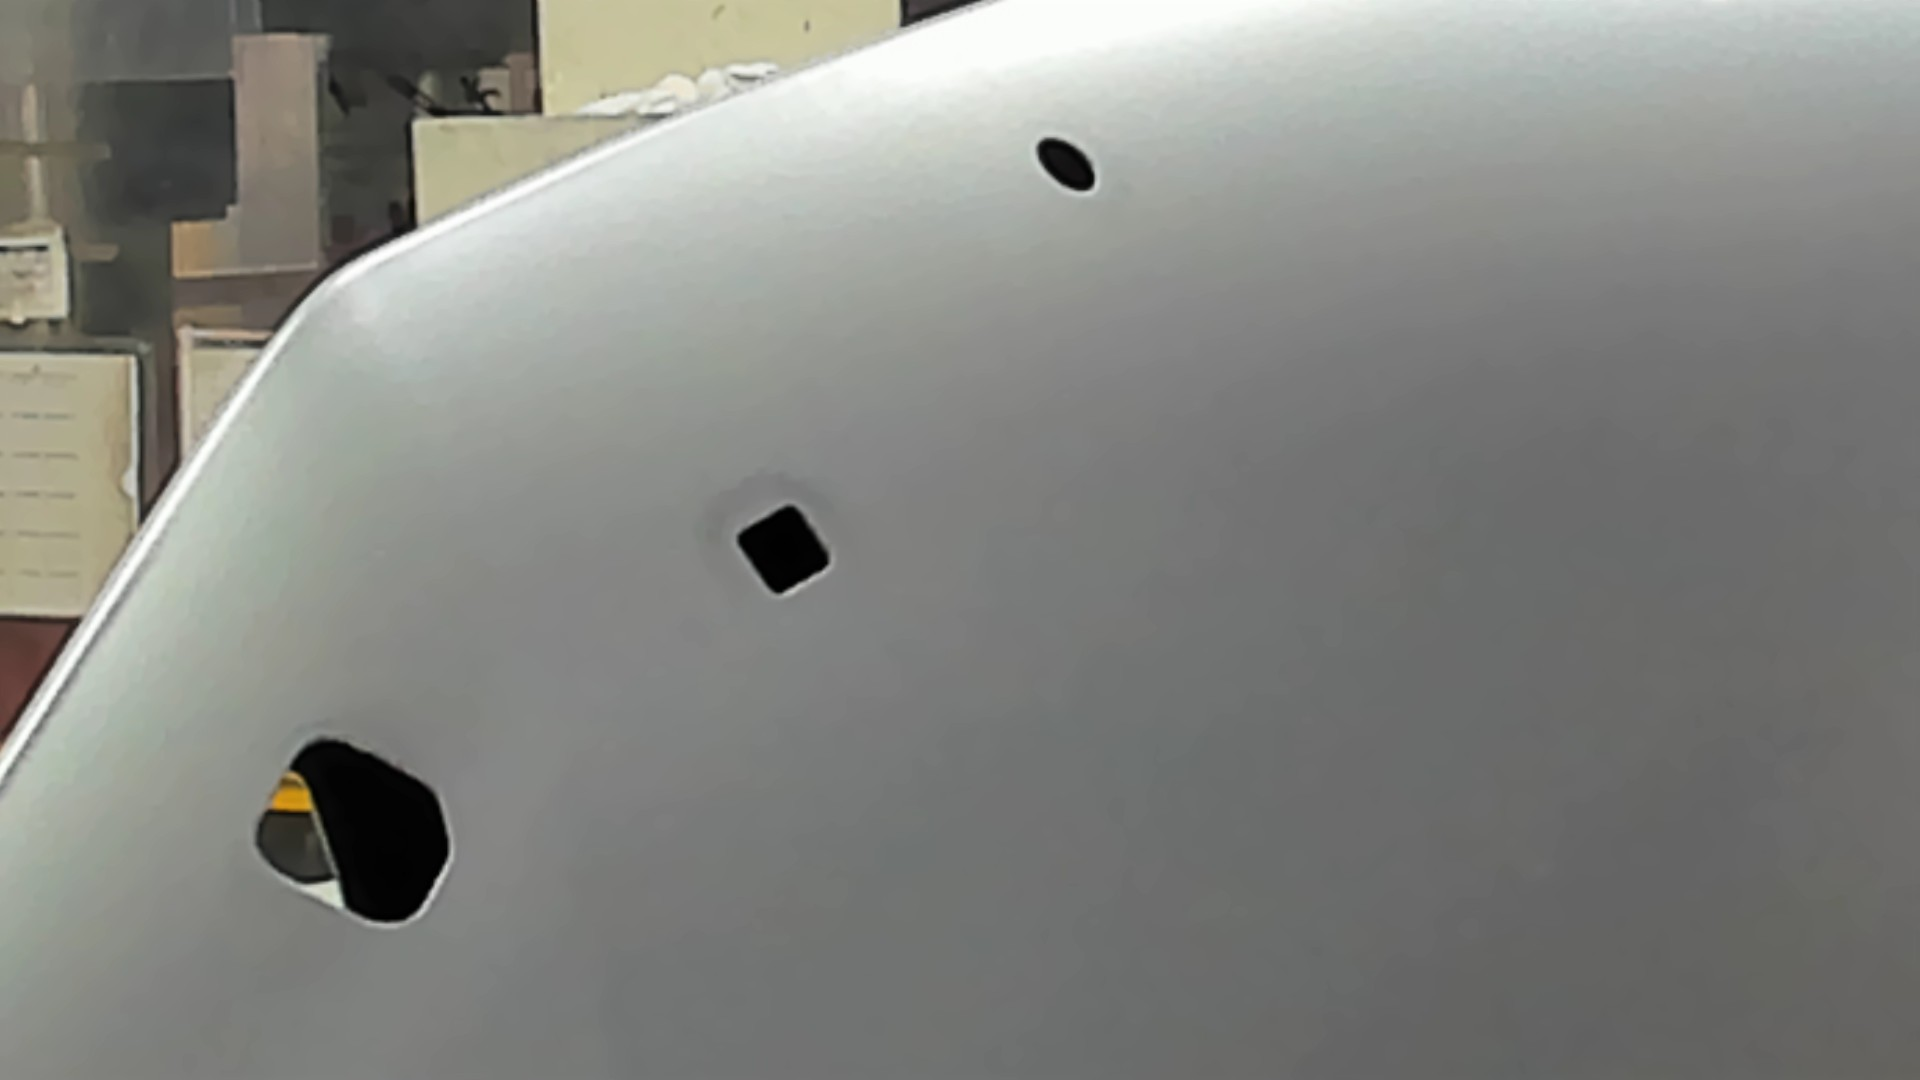chico: (1029, 132, 1106, 200)
grande: (247, 731, 459, 935)
mediano: (729, 496, 837, 604)
